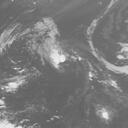cyclone: (35, 29, 68, 68)
